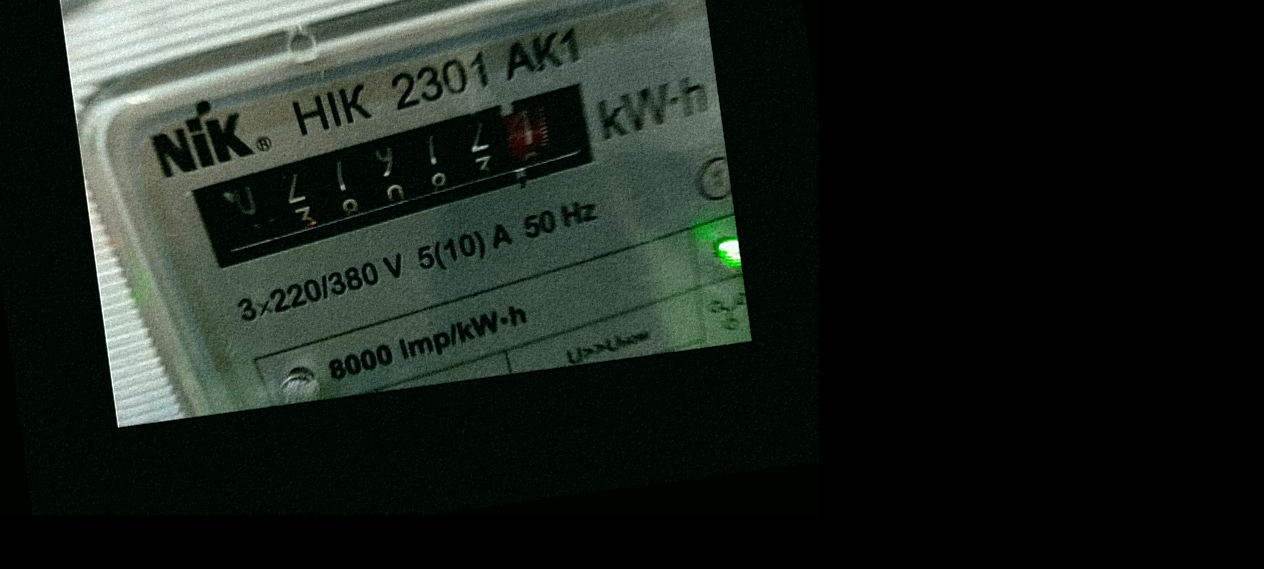0: (228, 179, 261, 218)
1: (513, 103, 541, 149)
2: (275, 163, 309, 206), (460, 114, 493, 154)
7: (415, 125, 446, 169), (325, 154, 352, 194)
9: (370, 140, 401, 179)
screen: (166, 68, 635, 282)
